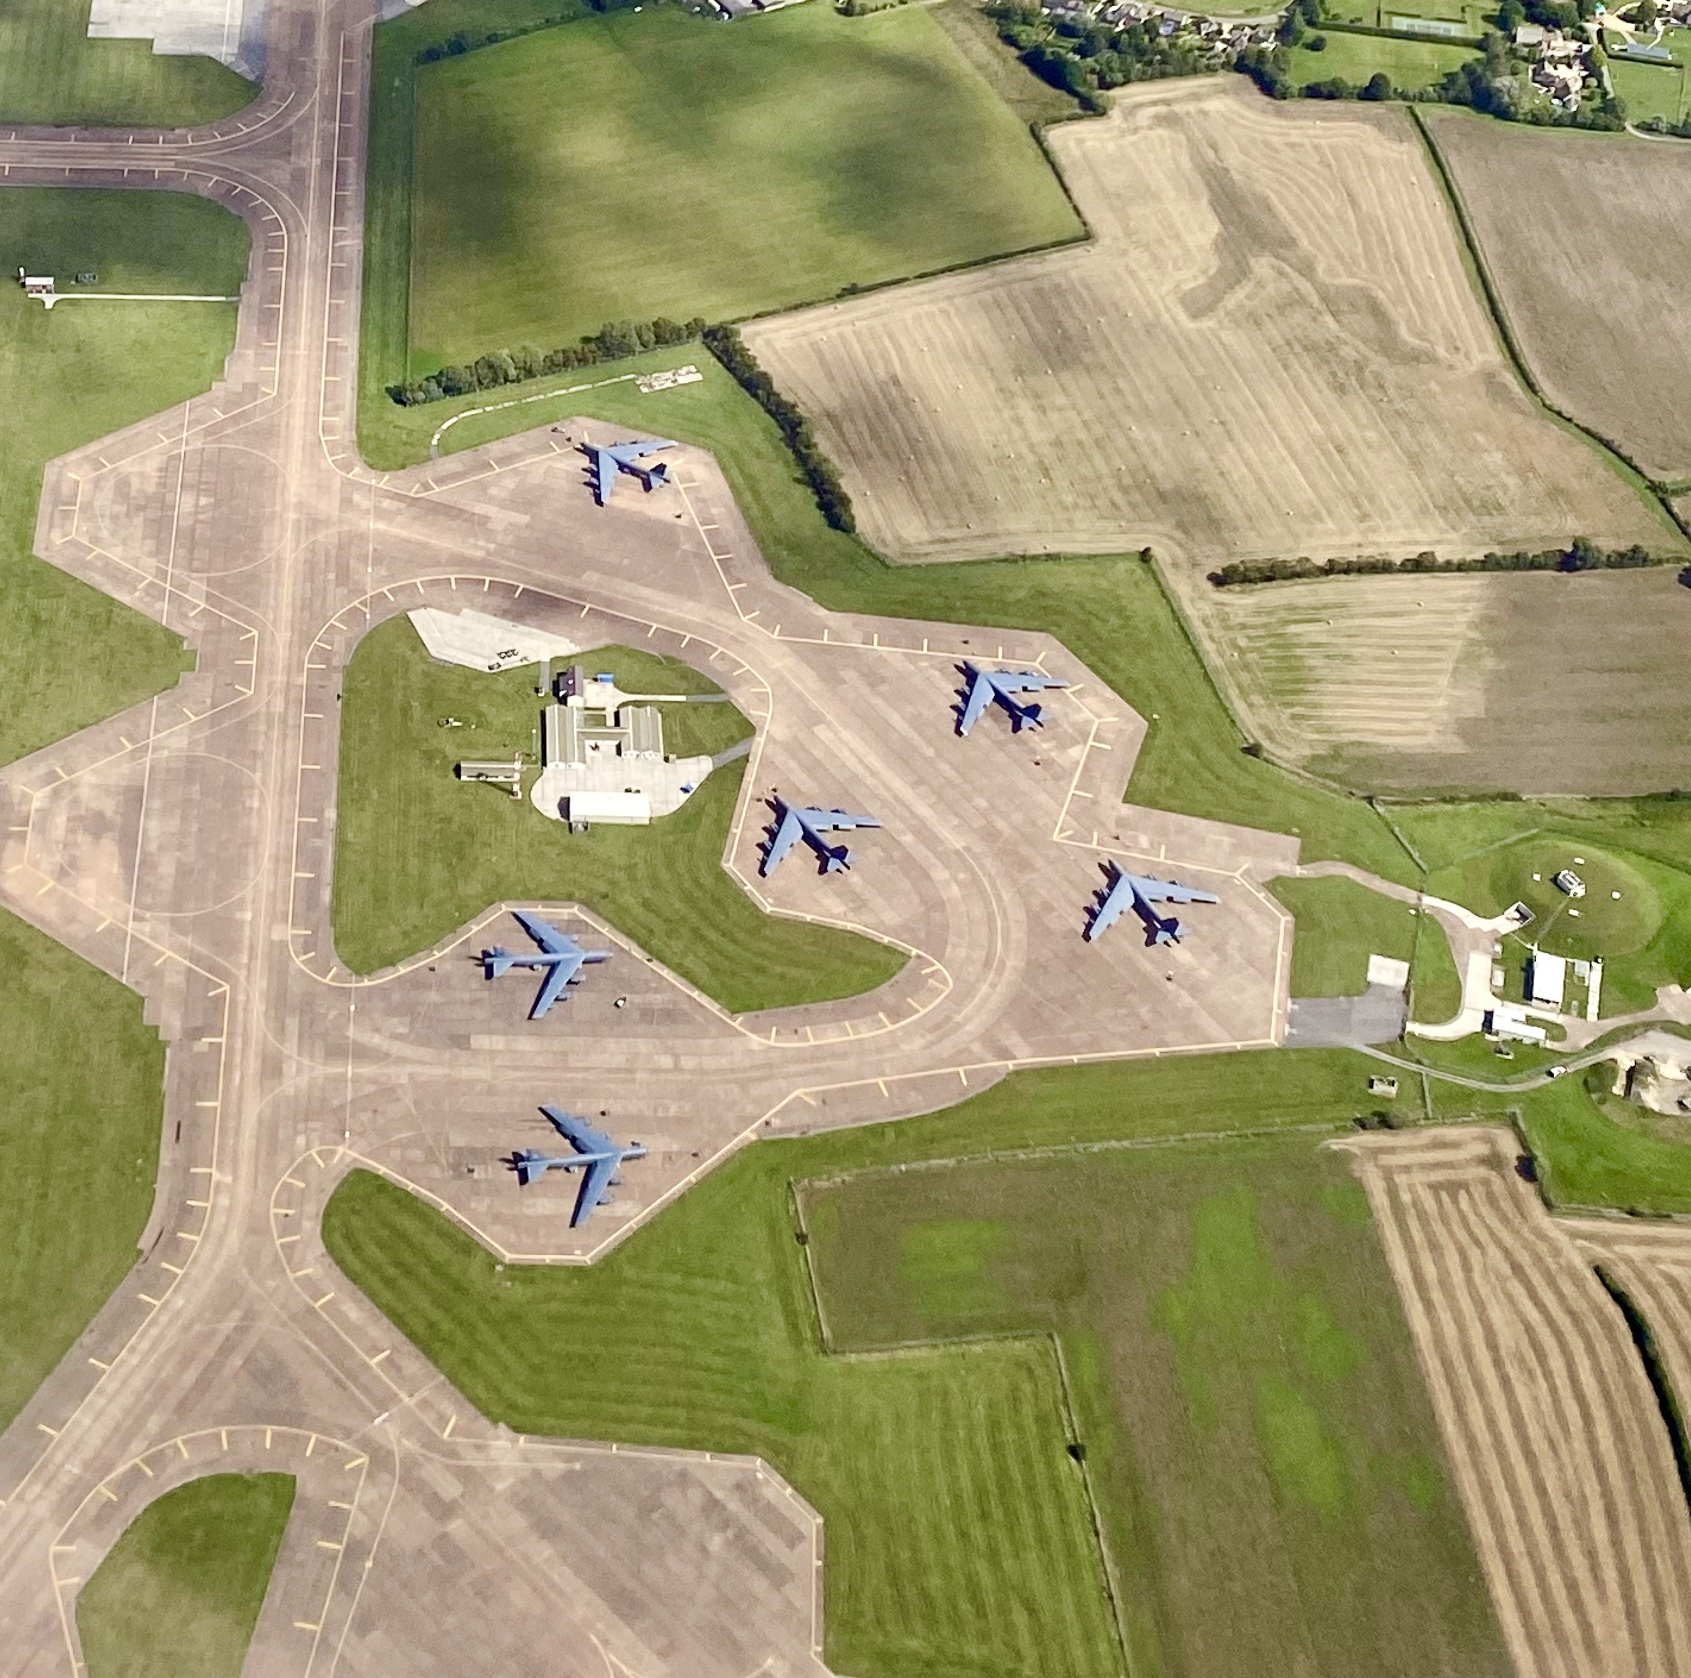B52: (517, 1103, 649, 1228), (484, 910, 613, 1020), (1088, 857, 1222, 945), (762, 794, 882, 876), (956, 658, 1071, 738), (580, 438, 679, 506)
